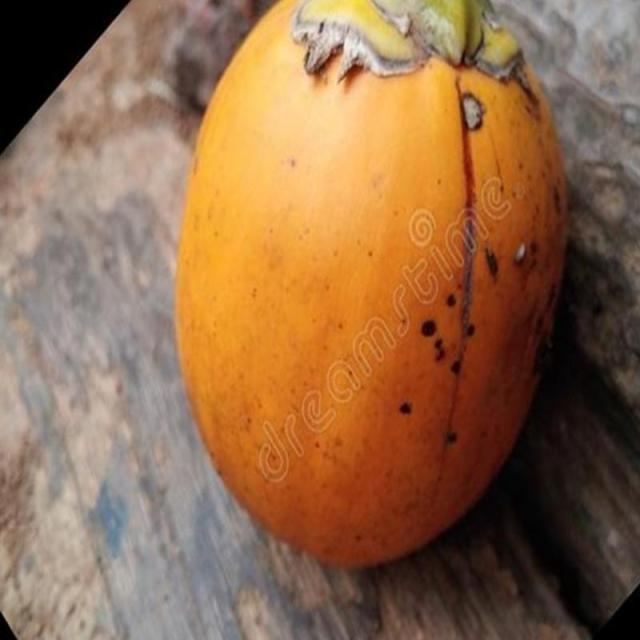good: (173, 0, 571, 574)
